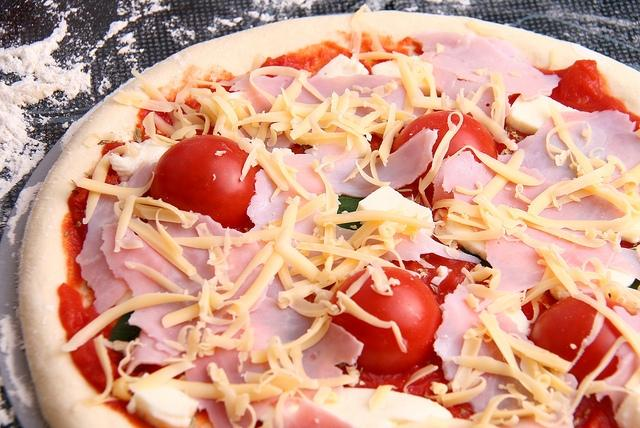tomato: (328, 266, 441, 373), (147, 135, 264, 233), (390, 110, 498, 207), (530, 296, 622, 388), (533, 59, 640, 131)
